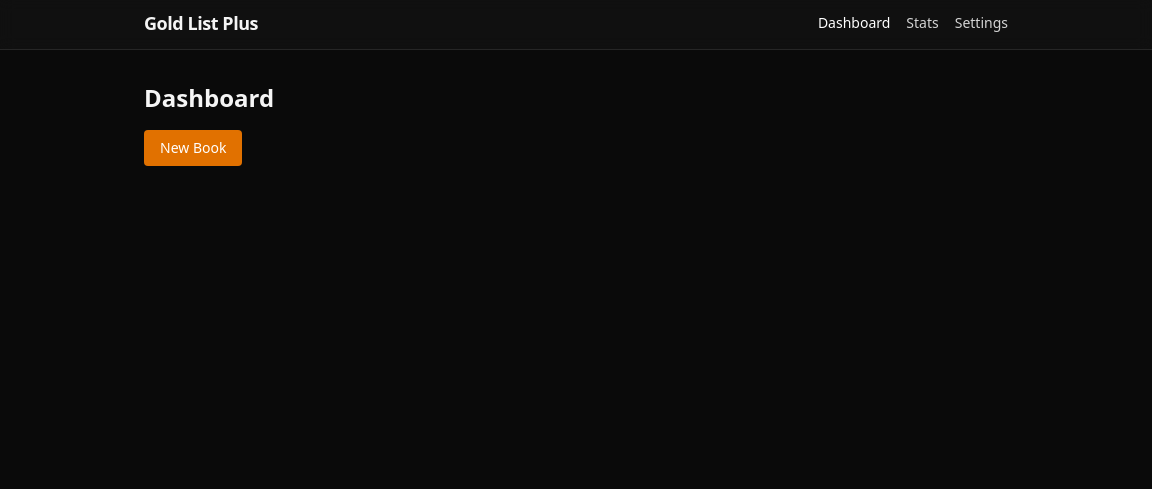
it: TASK-010 AC-1: Dashboard "New Book" link affordance › TASK-010 AC-1: clicking the link navigates to NewBook (route-new-book marker appears)
Expected: the element with test id "route-dashboard" is shown, x1=144 y1=81 x2=274 y2=166
Click the link "New Book" at (193, 148), box x1=144 y1=130 x2=242 y2=166
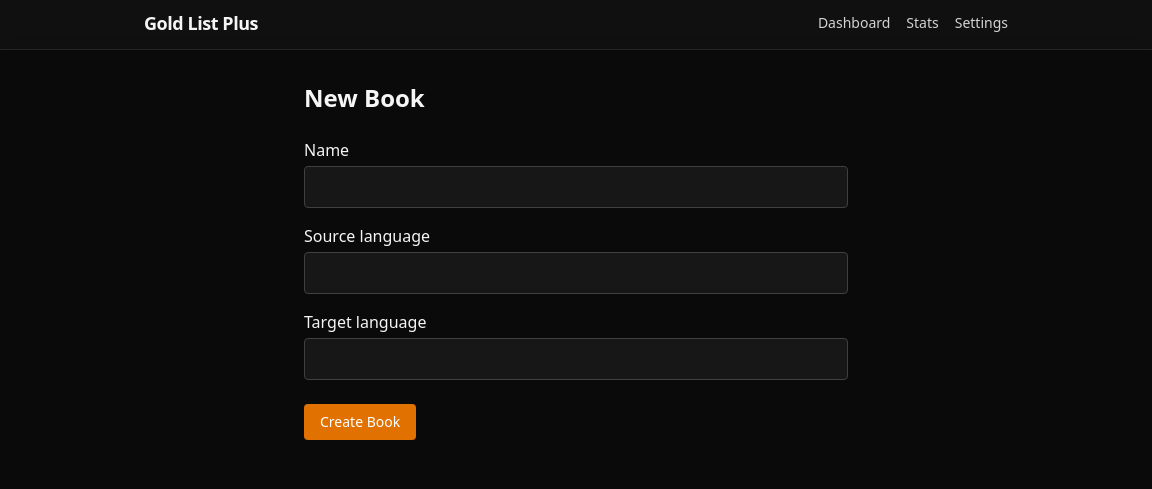
Expected: the element with test id "route-new-book" is shown, x1=288 y1=50 x2=864 y2=472
Expected: the element with test id "route-dashboard" is gone
